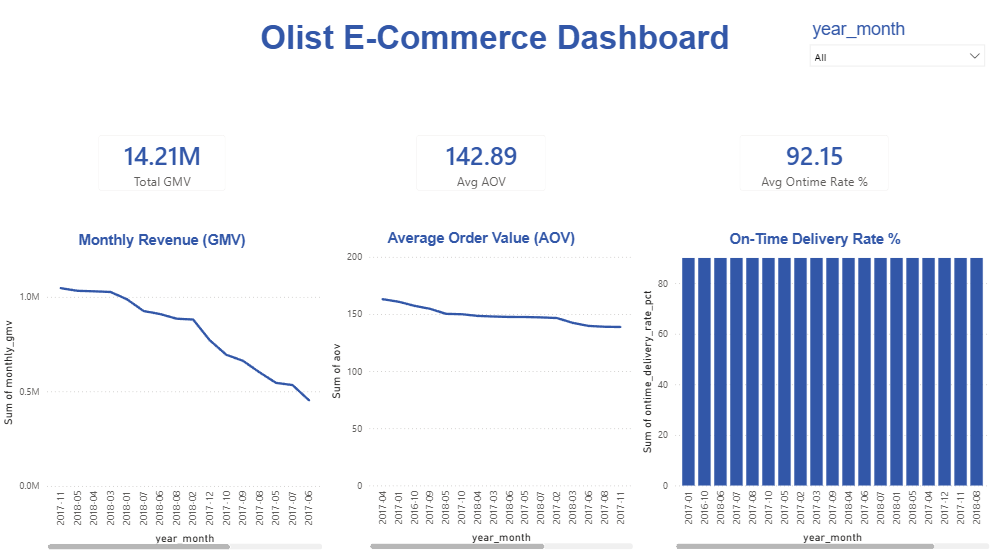

The dashboard page shown, as its layout file describes it:
{"tool":"powerbi","page":{"name":"Page 1","canvas":[1280,720],"ordinal":0},"visuals":[{"type":"clusteredColumnChart","title":"On-Time Delivery Rate %","fields":{"Category":["vw_ontime_delivery.year_month"],"Y":["Sum(vw_ontime_delivery.ontime_delivery_rate_pct)"]},"box":[822.2,304.2,458.3,415.3],"z":0},{"type":"lineChart","title":"Monthly Revenue (GMV)","fields":{"Category":["vw_monthly_gmv.year_month"],"Y":["Sum(vw_monthly_gmv.monthly_gmv)"]},"box":[0,305.7,422.1,414.4],"z":4000},{"type":"lineChart","title":"Average Order Value (AOV)","fields":{"Category":["vw_aov.year_month"],"Y":["Sum(vw_aov.aov)"]},"box":[422.2,302.8,400,416.7],"z":5000},{"type":"textbox","box":[51.4,26.4,1177.8,137.5],"z":6000},{"type":"slicer","fields":{"Values":["vw_monthly_gmv.year_month"]},"box":[1035.3,26.9,245,83.6],"z":7000},{"type":"cardVisual","fields":{"Data":["mart_daily_revenue.Avg Ontime Rate %"]},"box":[937.6,164.3,226.6,106.2],"z":7001},{"type":"cardVisual","fields":{"Data":["mart_daily_revenue.Total GMV"]},"box":[111.9,164.3,198.3,106.2],"z":7002},{"type":"cardVisual","fields":{"Data":["mart_daily_revenue.Avg AOV"]},"box":[521.2,164.3,201.1,106.2],"z":7003}]}

Visuals, with their boxes in screenshot pixels (x1, y1, x2, y2), scaled from the page's 1280x720 canvas onto the 995x553 screenshot:
"On-Time Delivery Rate %" clusteredColumnChart: pyautogui.locateOnScreen(639, 234, 994, 552)
"Monthly Revenue (GMV)" lineChart: pyautogui.locateOnScreen(0, 235, 328, 552)
"Average Order Value (AOV)" lineChart: pyautogui.locateOnScreen(328, 233, 639, 552)
textbox: pyautogui.locateOnScreen(40, 20, 956, 126)
slicer - vw_monthly_gmv.year_month: pyautogui.locateOnScreen(805, 21, 994, 85)
cardVisual - mart_daily_revenue.Avg Ontime Rate %: pyautogui.locateOnScreen(729, 126, 905, 208)
cardVisual - mart_daily_revenue.Total GMV: pyautogui.locateOnScreen(87, 126, 241, 208)
cardVisual - mart_daily_revenue.Avg AOV: pyautogui.locateOnScreen(405, 126, 561, 208)
